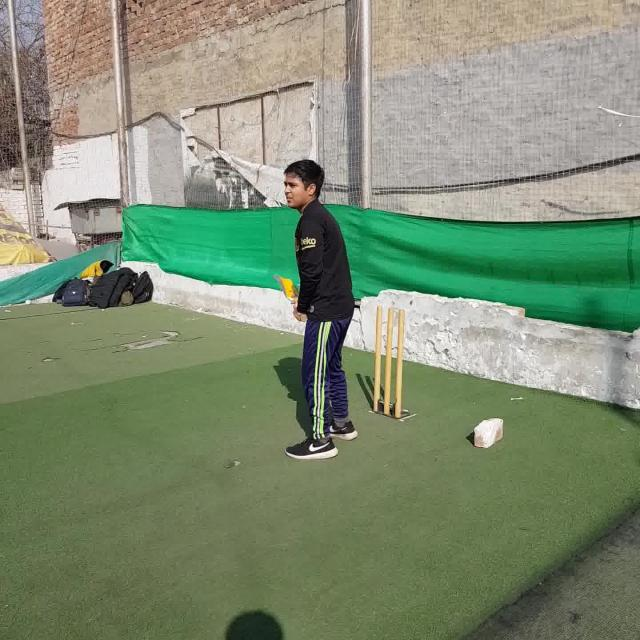ball: (25, 299, 32, 305)
bat: (274, 273, 308, 322)
